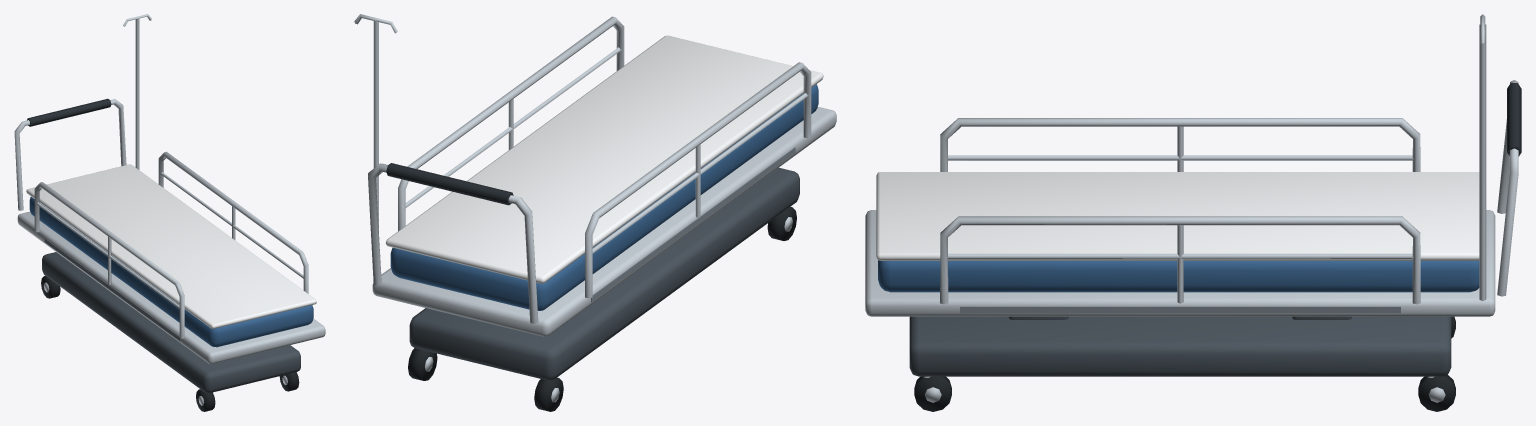
File: trolley.glb
3 renders of one model, left to right at view 1: azimuth 30°, elevation 25°; view 2: azimuth 150°, elevation 25°; view 3: azimuth 270°, elevation 25°, orthographic. The views are drawn at different scales.
Parts seen in each view (by area): view 1: Main; view 2: Main; view 3: Main.
Boxes of the visible parts, bbox=[...] form: Main: bbox=[14, 14, 325, 411]; Main: bbox=[354, 14, 836, 411]; Main: bbox=[865, 14, 1521, 411].
Bounding box in the file's own units: 0.8217 × 1.4 × 2.08.
